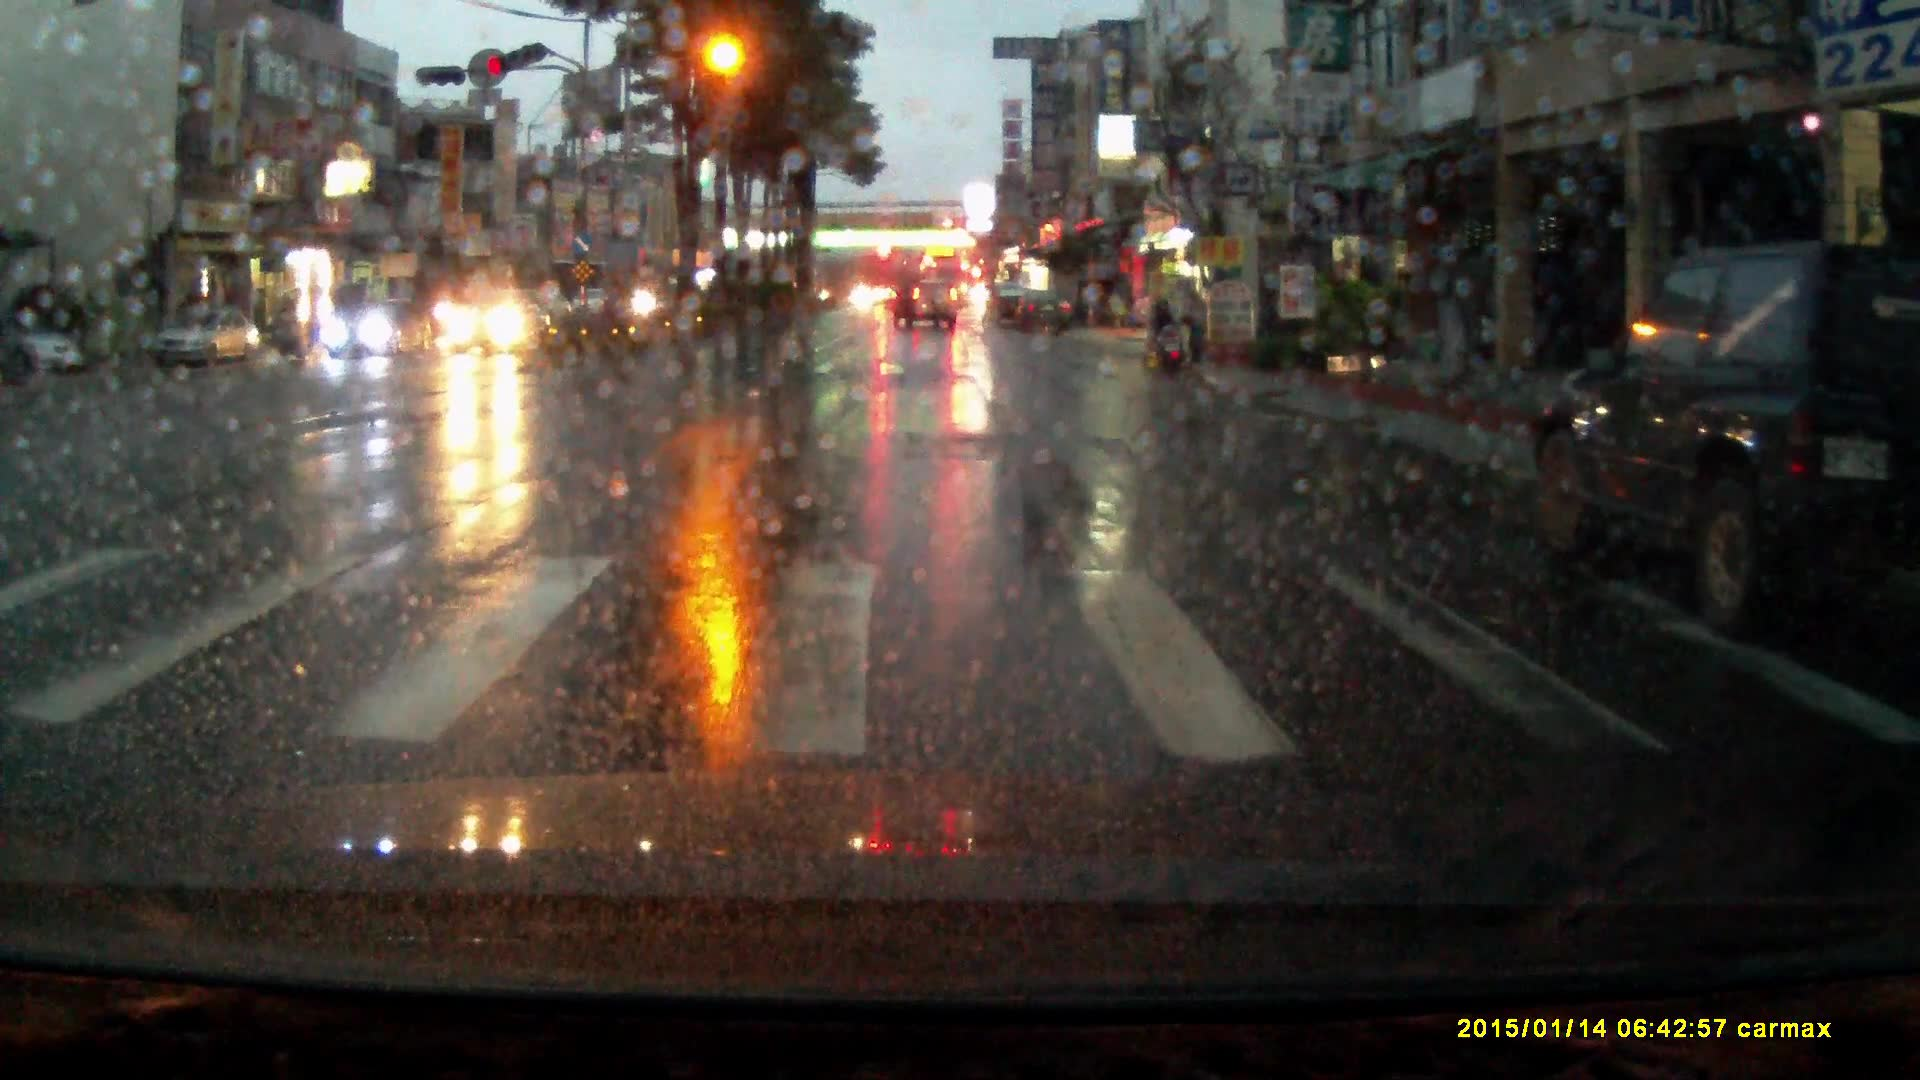rider: (271, 297, 301, 361)
vehicle: (1513, 235, 1920, 639), (154, 298, 264, 368), (321, 300, 441, 362), (447, 285, 546, 358), (1, 315, 83, 375), (893, 279, 959, 331), (1012, 290, 1073, 337), (922, 257, 963, 318), (984, 283, 1026, 328), (572, 289, 613, 317), (866, 281, 900, 308)
